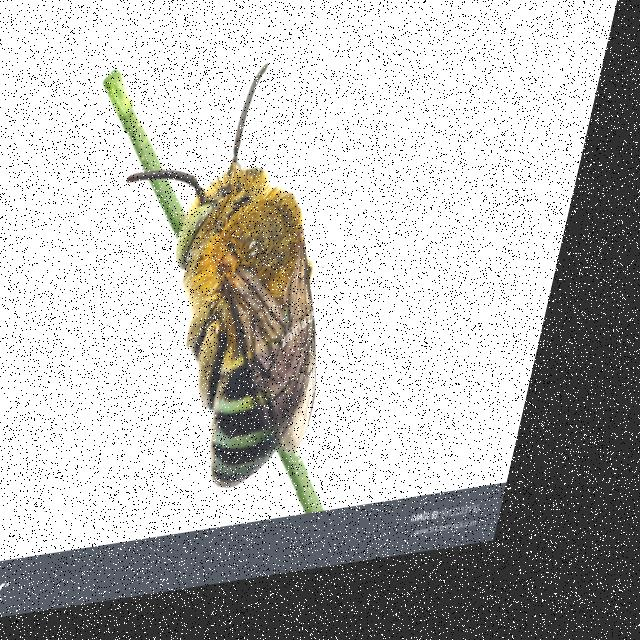Meliponula: (61, 50, 413, 539)
